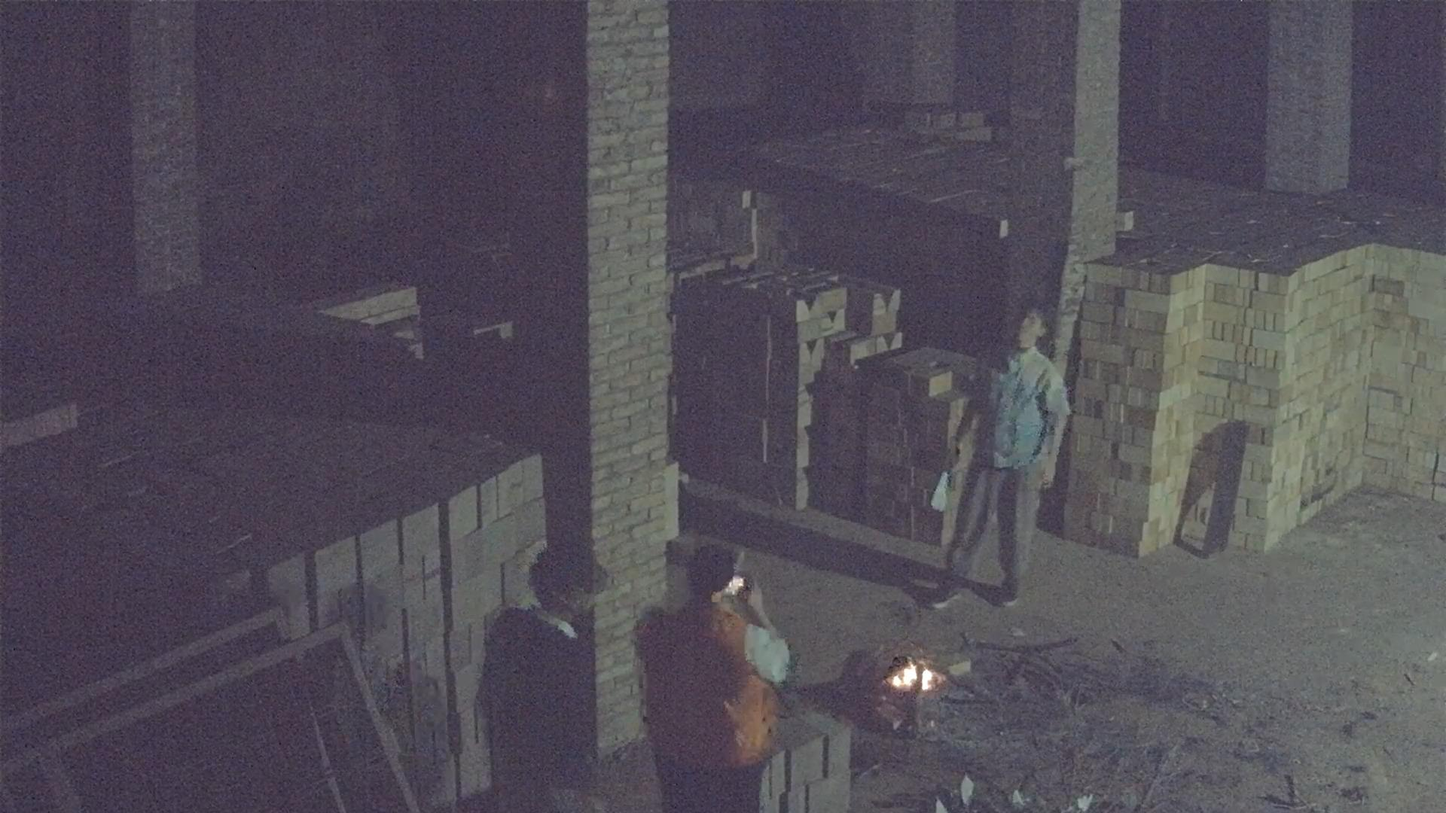fire: (884, 658, 944, 694)
